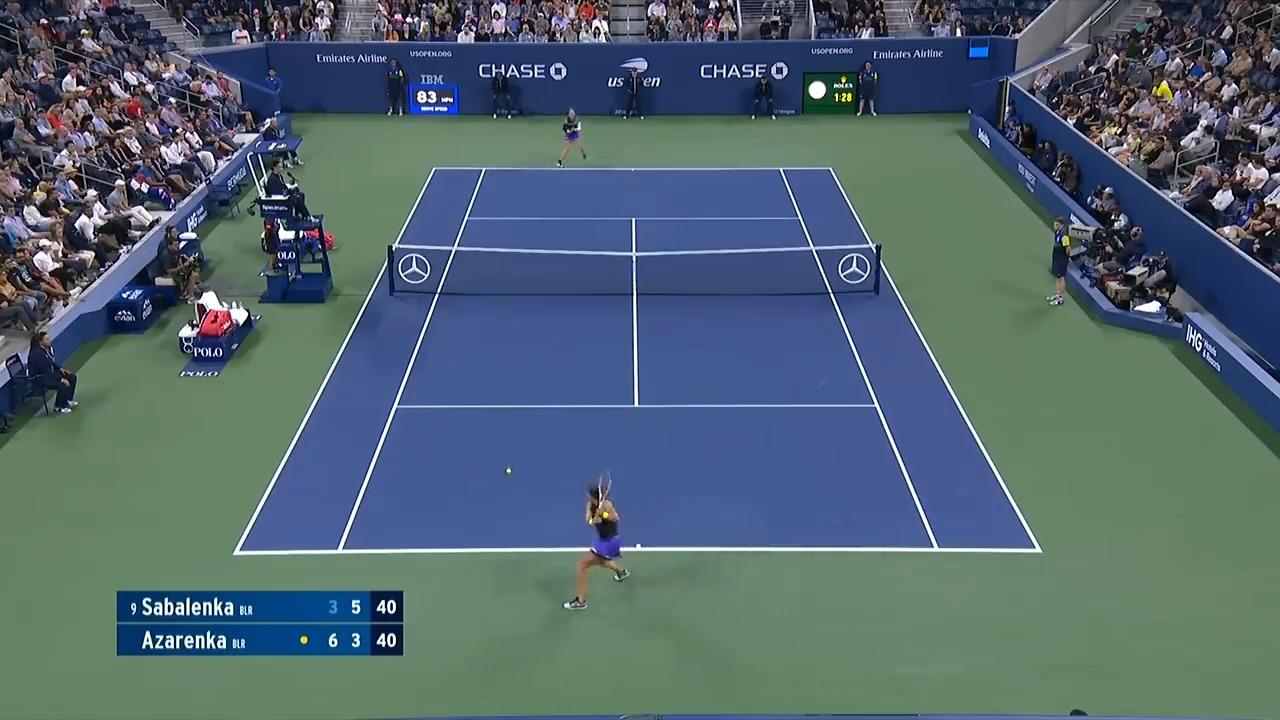tennis ball: (505, 467, 512, 474)
